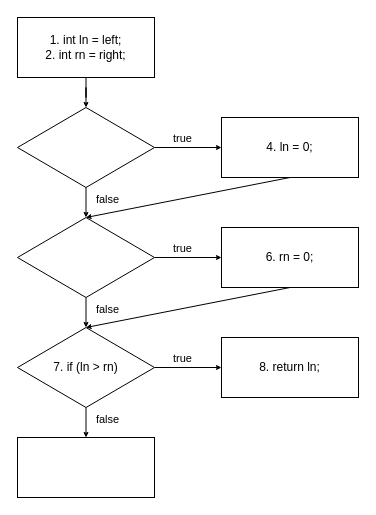
This 376x515 diagram has some shape labels left out. The centre of each missing label's shape, as x and y in pixels:
10. return rn;: pixel 85 467
3. if (ln > 21): pixel 85 147
5. if (rn > 21): pixel 85 257
